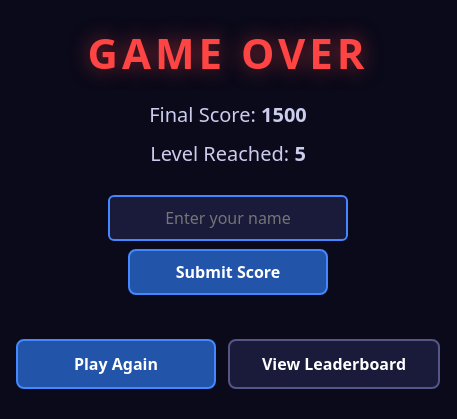
Test: GameOverScreen › should reject empty name in form validation
Click the button "Submit Score": (228, 272) [128,248,328,294]
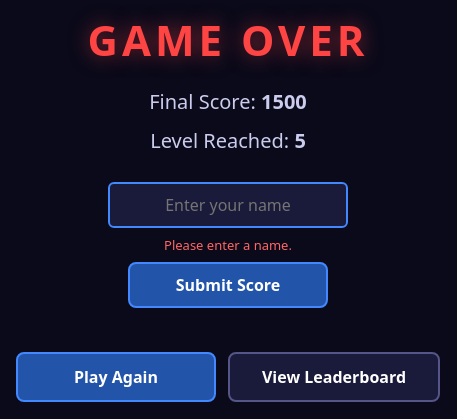
expect the text "Please enter a name." is shown: met, box [164,236,292,254]
